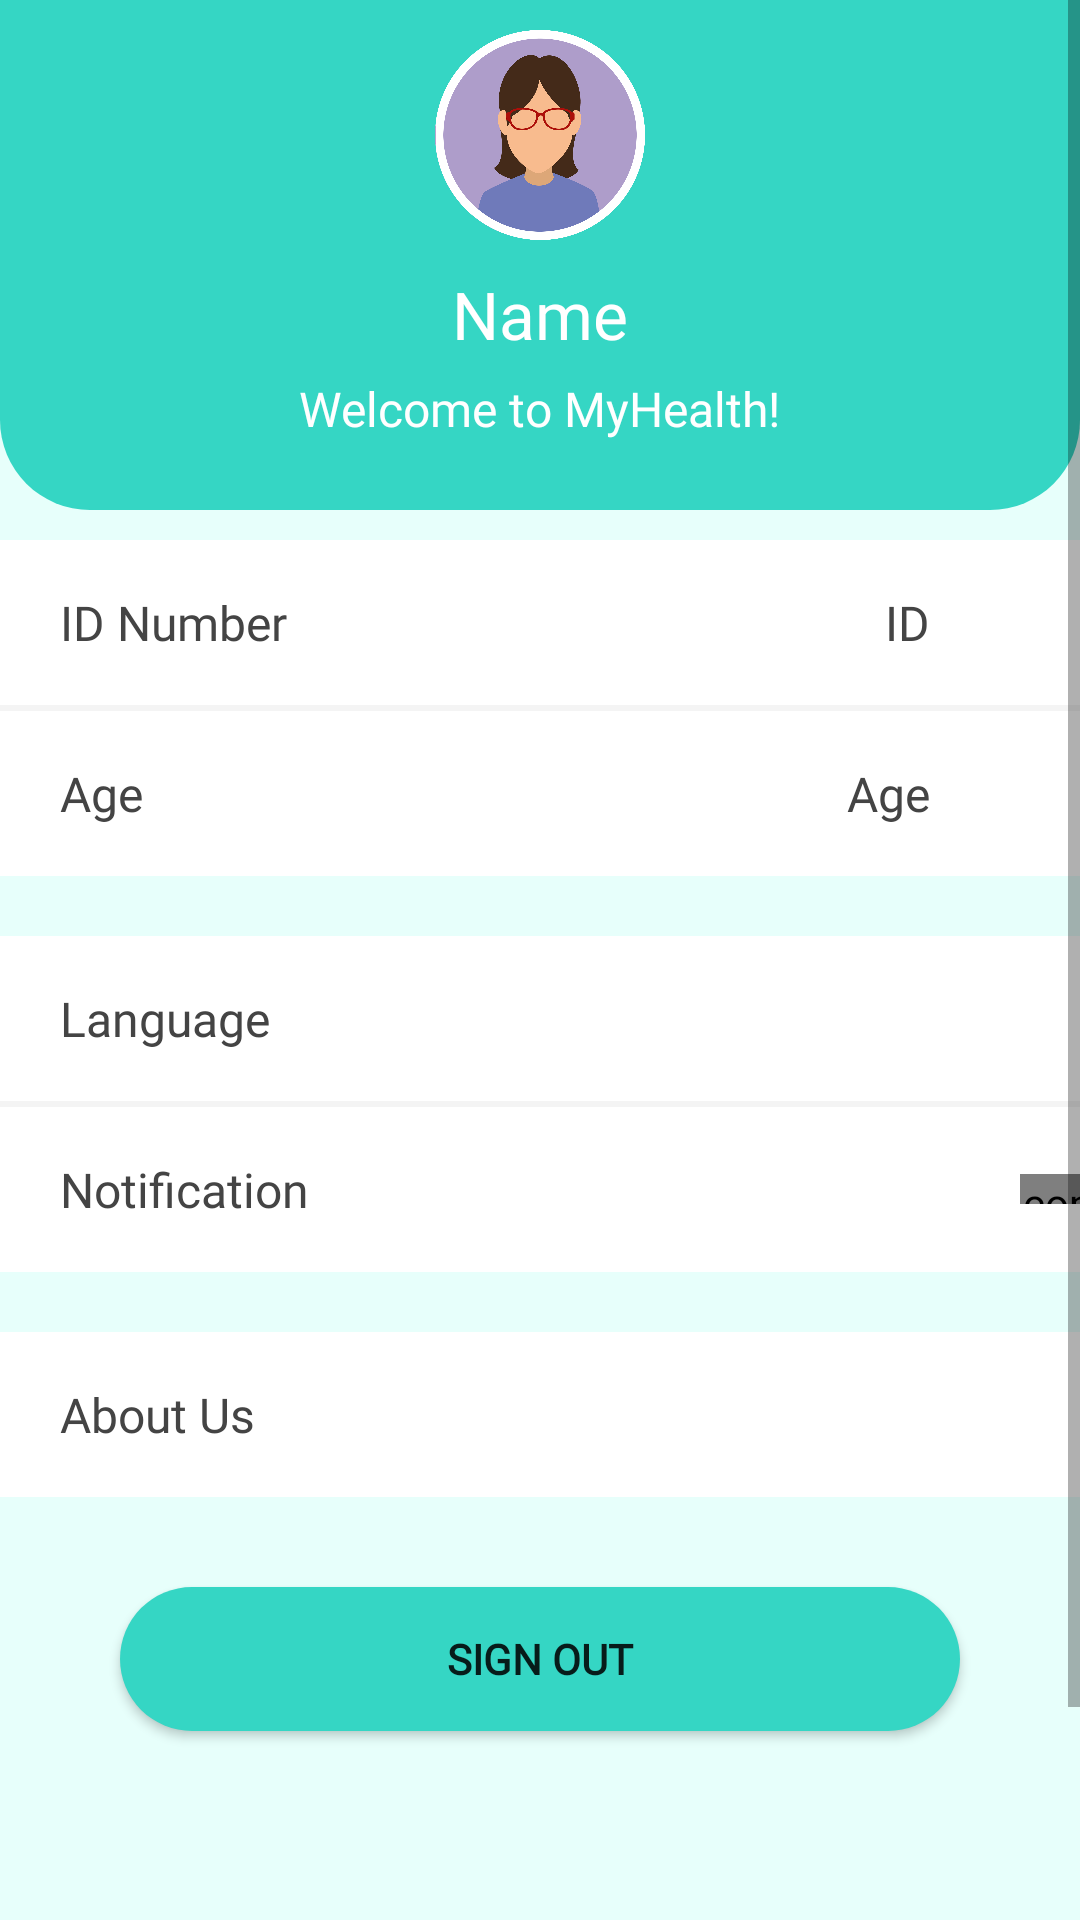

Named icons in this screenshot (1080*1920) and their bounding boxes, (x1, y1, x2, y2):
profile pic: (435, 30, 645, 240)
